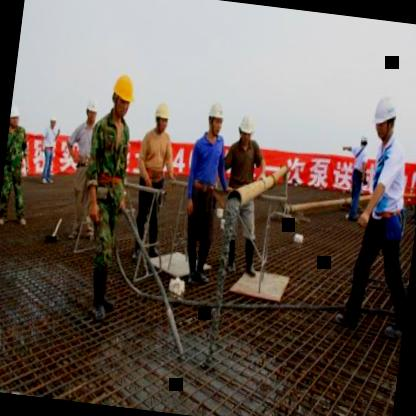helmet: (368, 87, 402, 146), (105, 65, 139, 124), (204, 92, 228, 140), (232, 106, 258, 148), (151, 96, 174, 136), (84, 93, 100, 130), (7, 100, 24, 132), (359, 130, 370, 151)
